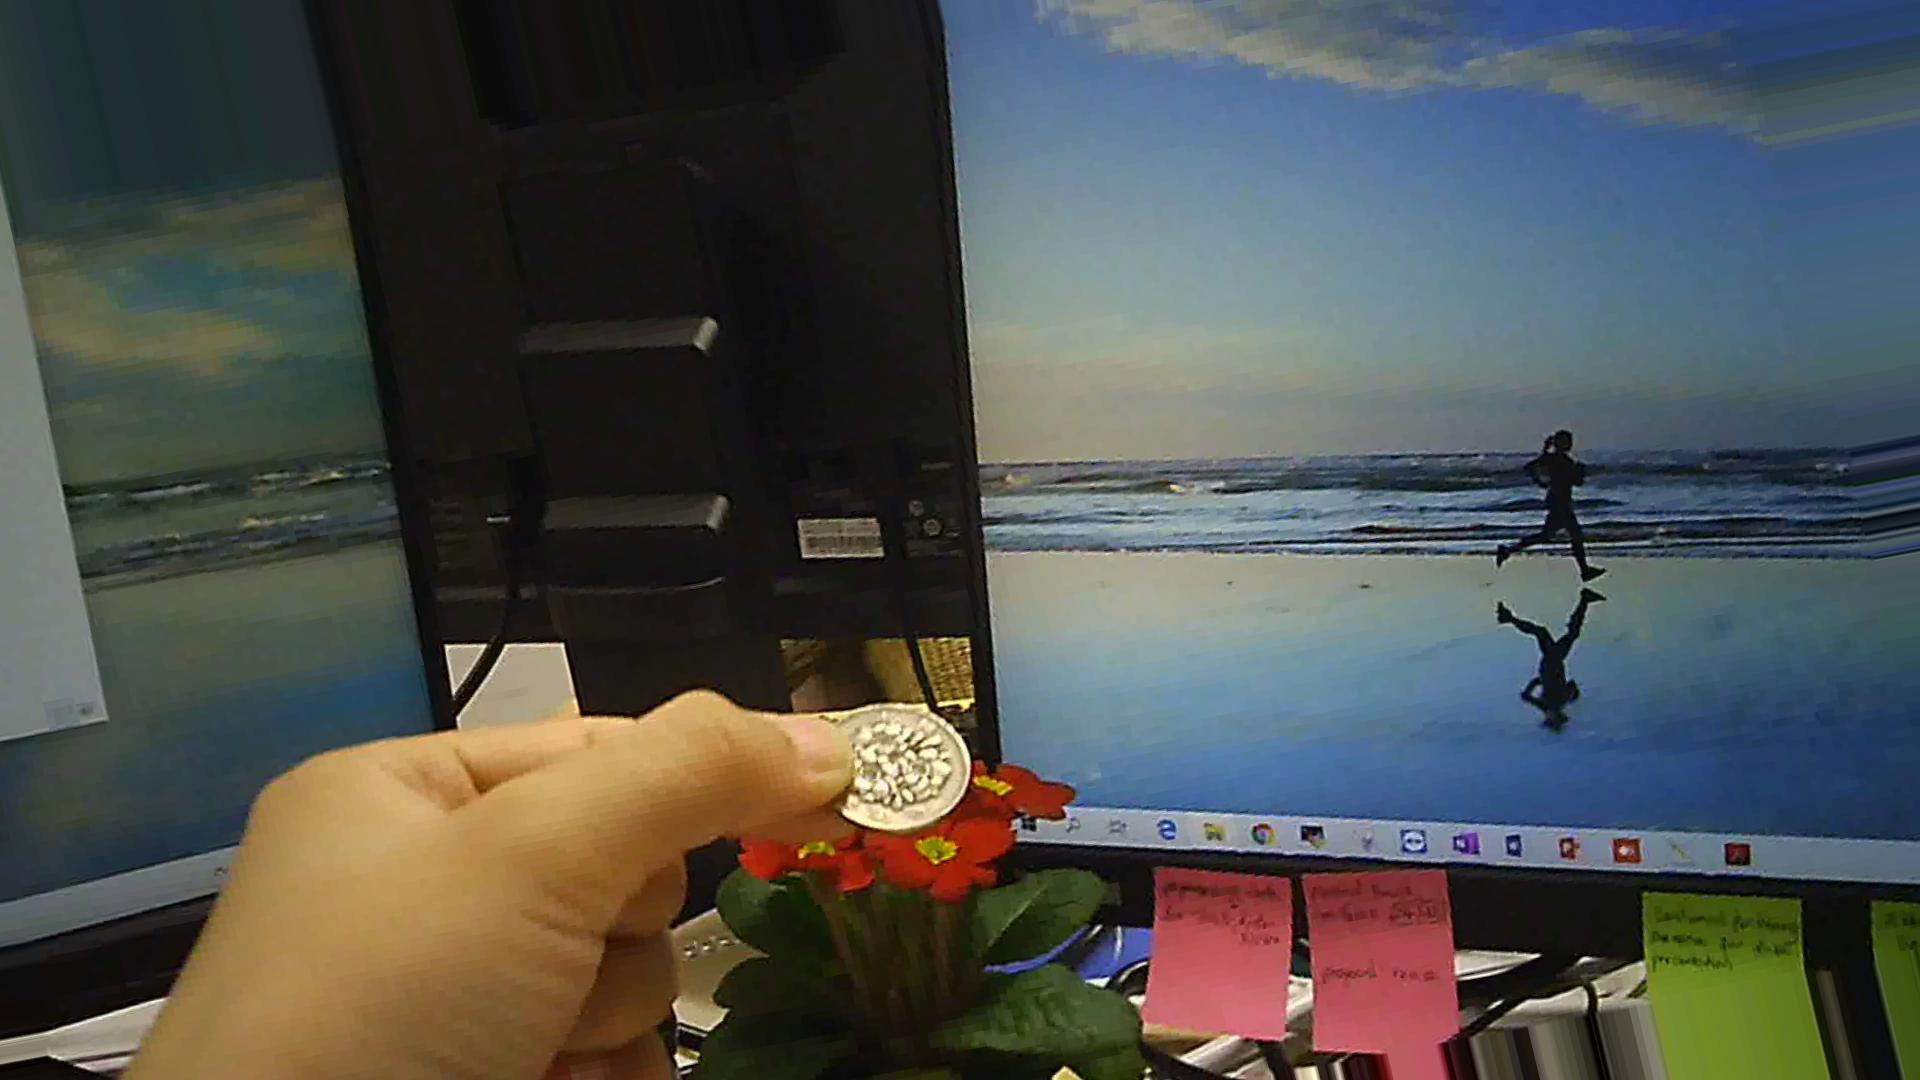100 Yen: (815, 691, 975, 843)
